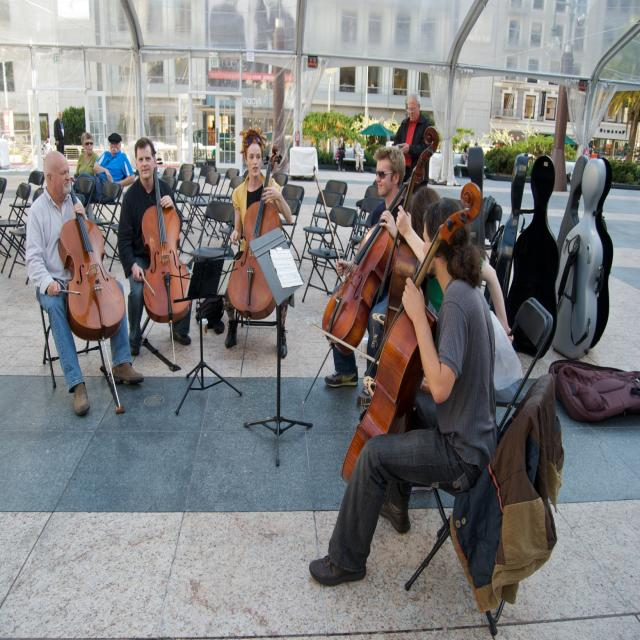cello: (341, 179, 487, 493), (380, 122, 442, 375), (320, 192, 401, 352), (59, 177, 126, 338), (226, 148, 286, 316), (138, 163, 194, 324)
